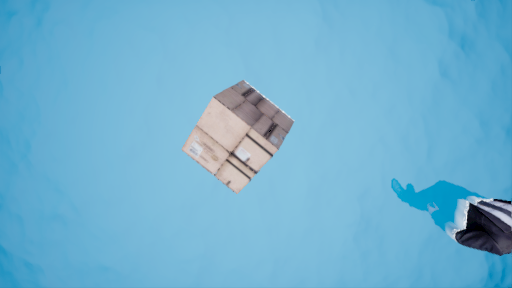person: (390, 174, 512, 256)
